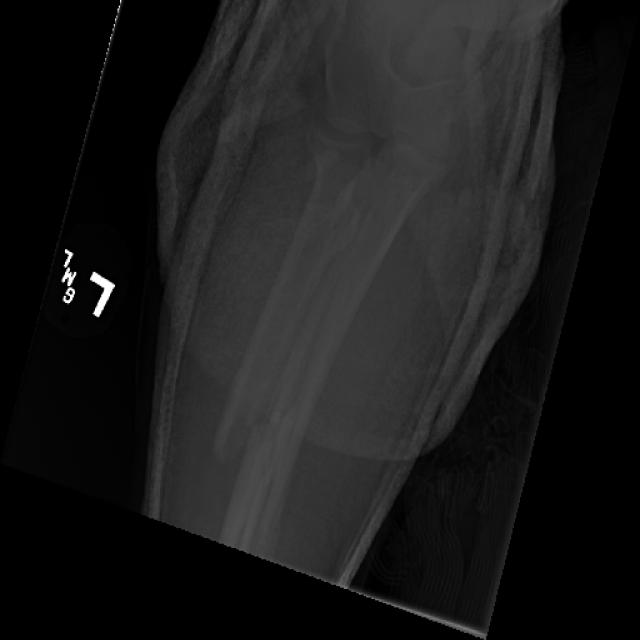forearm fracture: (184, 365, 341, 538)
